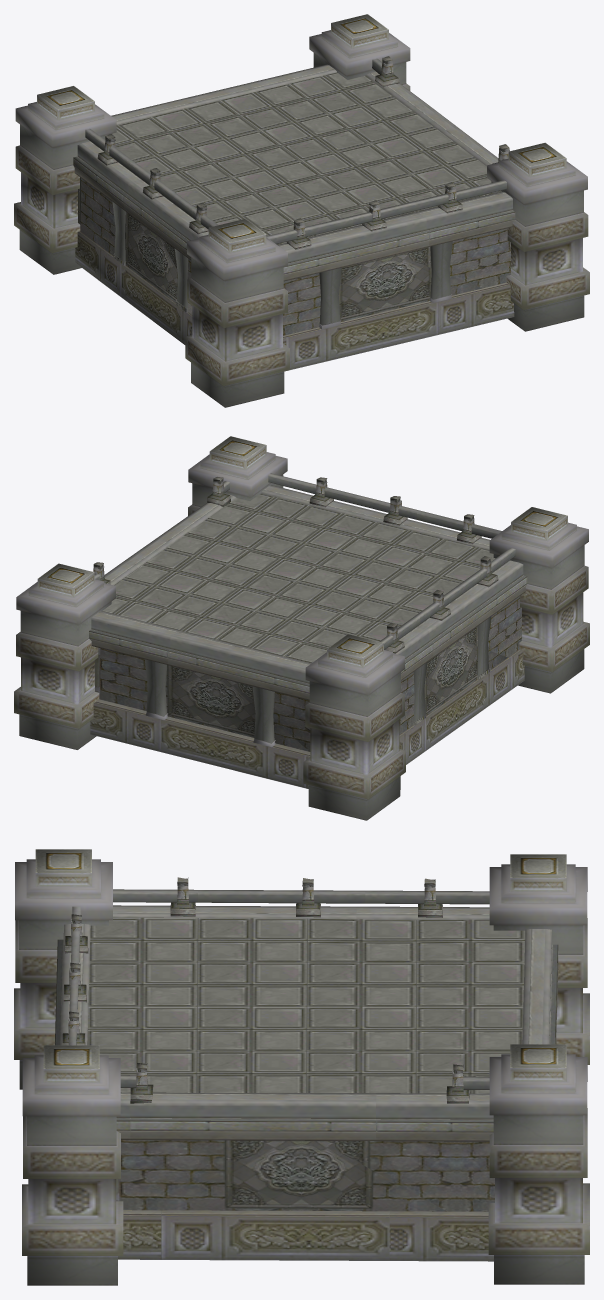
Rendered from S2_Build_XSC082.FBX.
3 renders of one model, top to bottom at view 1: azimuth 30°, elevation 25°; view 2: azimuth 150°, elevation 25°; view 3: azimuth 270°, elevation 25°, orthographic. The views are drawn at different scales.
Visible parts, largest first — view 1: S2_Build_XSC082; view 2: S2_Build_XSC082; view 3: S2_Build_XSC082.
Part boxes in pixels (x1,y1,x2,y2): S2_Build_XSC082: [14, 14, 589, 407]; S2_Build_XSC082: [14, 436, 589, 820]; S2_Build_XSC082: [14, 849, 589, 1285].
Bounding box in the file's own units: 1807 × 737 × 1842.
